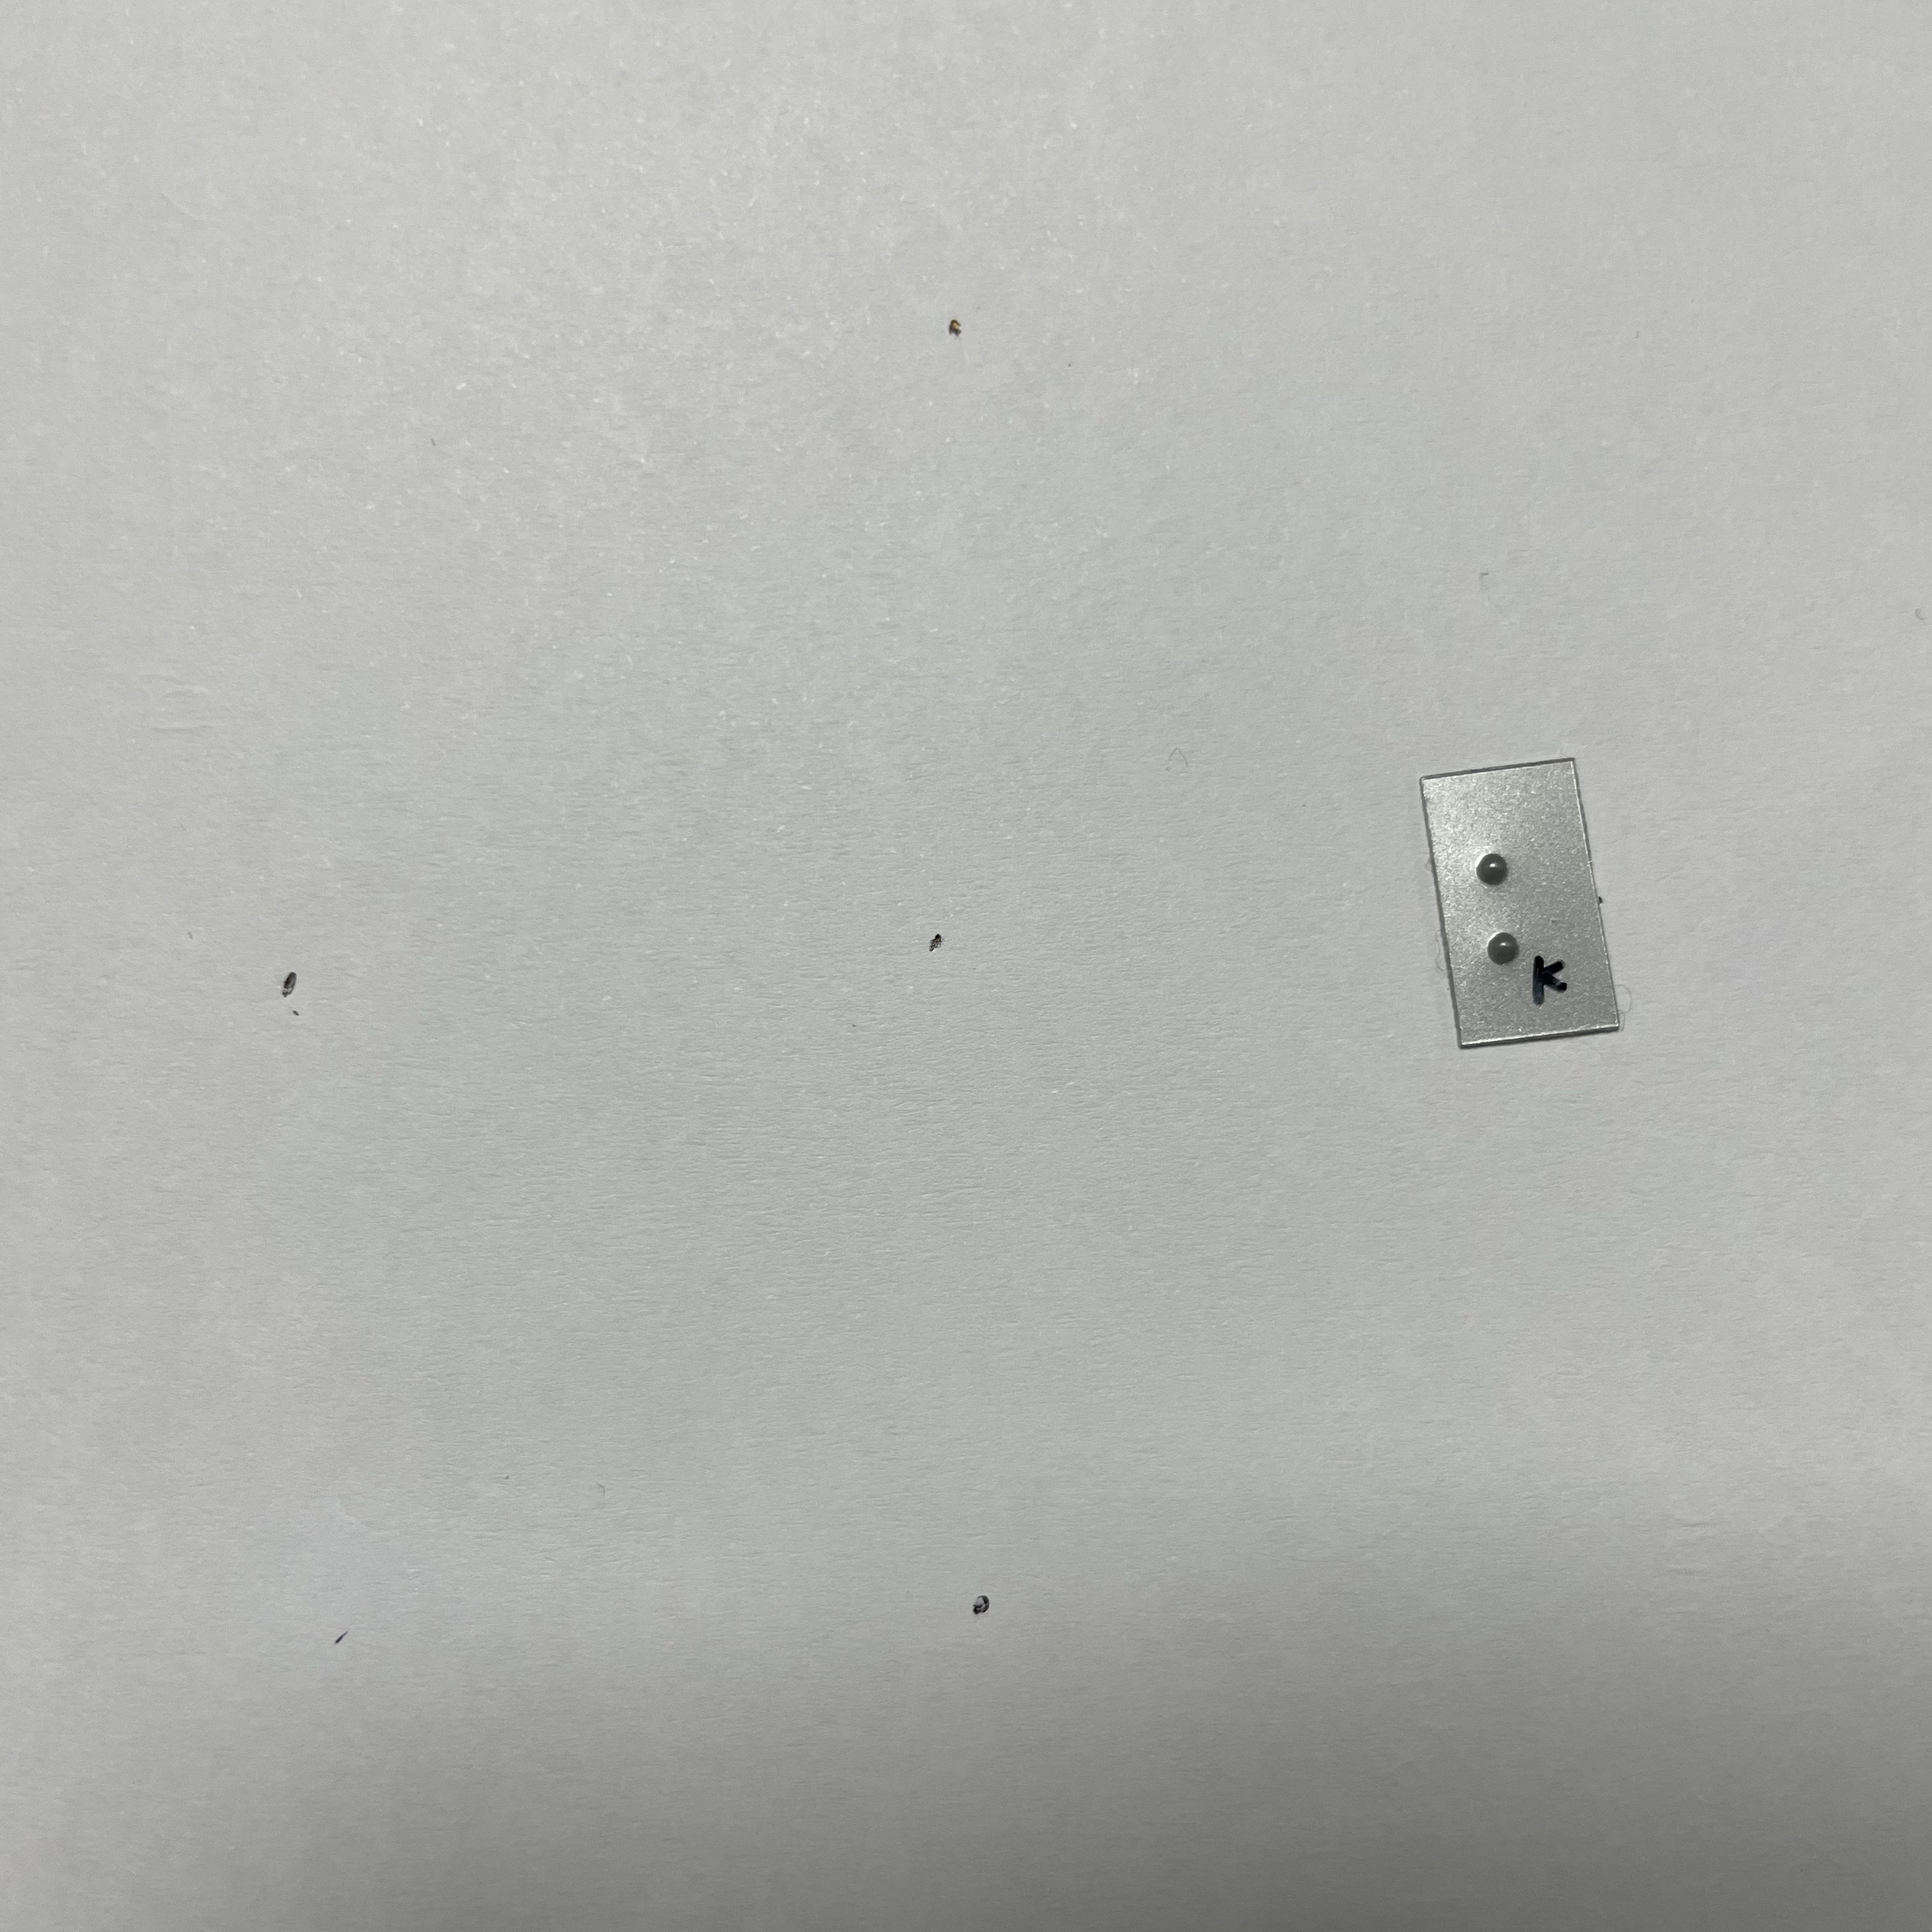k: (1465, 843, 1572, 970)
